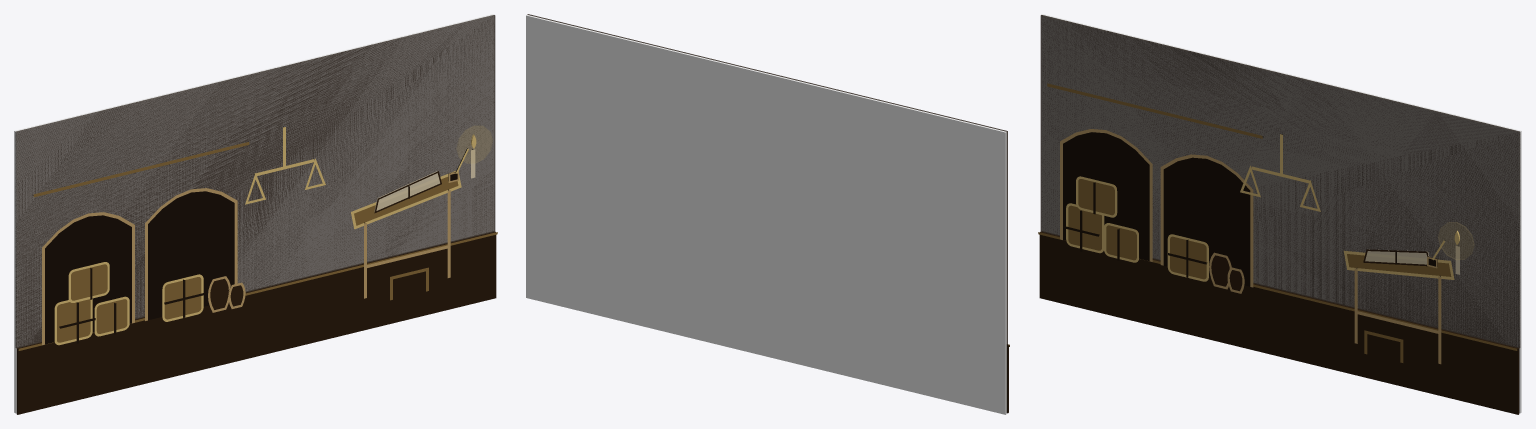
The model's file is loc-faktoriya.glb.
3 renders of one model, left to right at view 1: azimuth 30°, elevation 25°; view 2: azimuth 150°, elevation 25°; view 3: azimuth 330°, elevation 25°, orthographic.
Parts seen in each view (by area): view 1: loc-faktoriya; view 2: loc-faktoriya; view 3: loc-faktoriya.
Part boxes in pixels (bbox=[...]): loc-faktoriya: bbox=[14, 14, 497, 414]; loc-faktoriya: bbox=[526, 14, 1009, 414]; loc-faktoriya: bbox=[1038, 14, 1521, 414].
Size of the model in its own units: 5.33 by 3 by 0.521.
